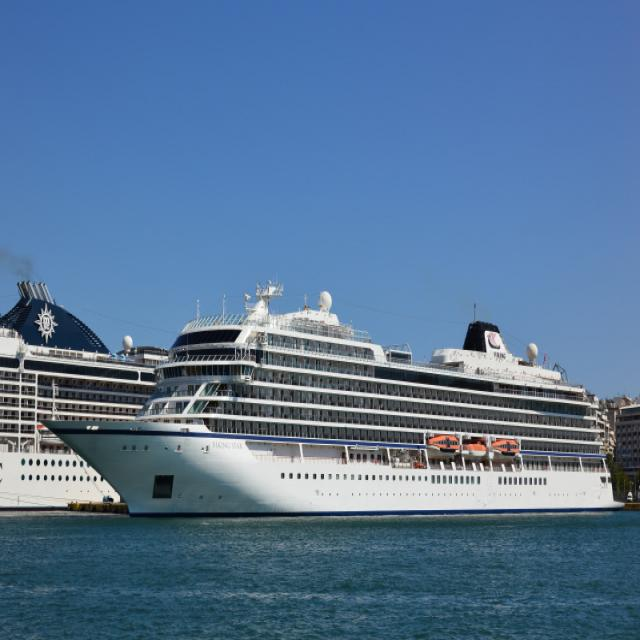cruises: (44, 267, 631, 521), (2, 273, 183, 524)
